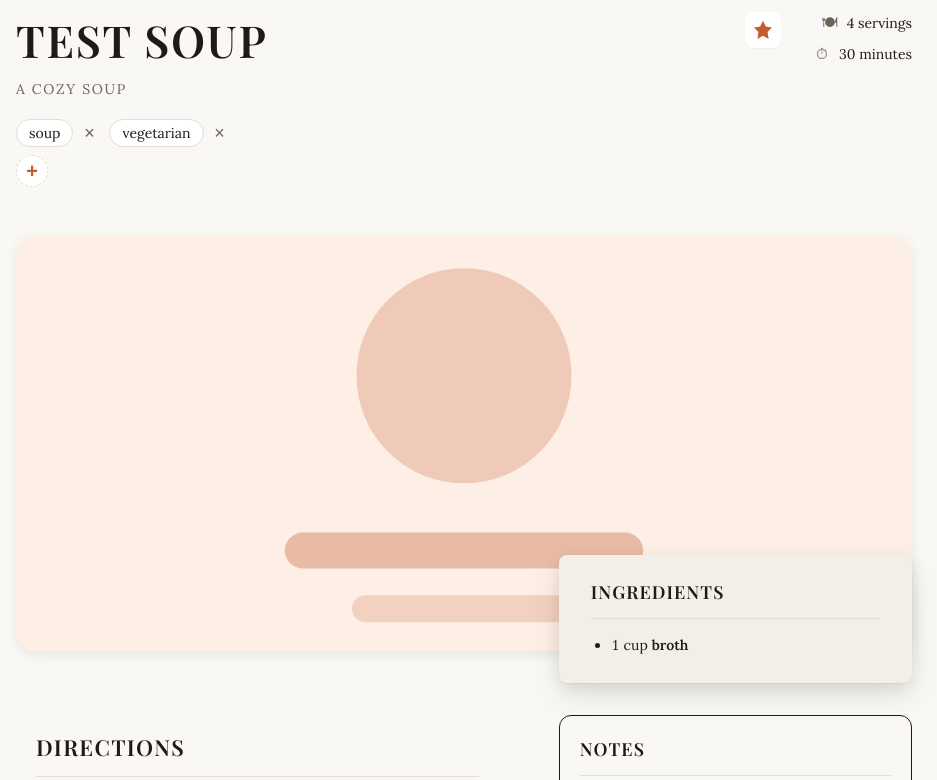
Test: RecipeDetailPage servings › adjusts servings when the stat in the recipe header is clicked
Click the button with aria-label "4 servings, click to adjust" at (866, 23), box [821,12,912,35]
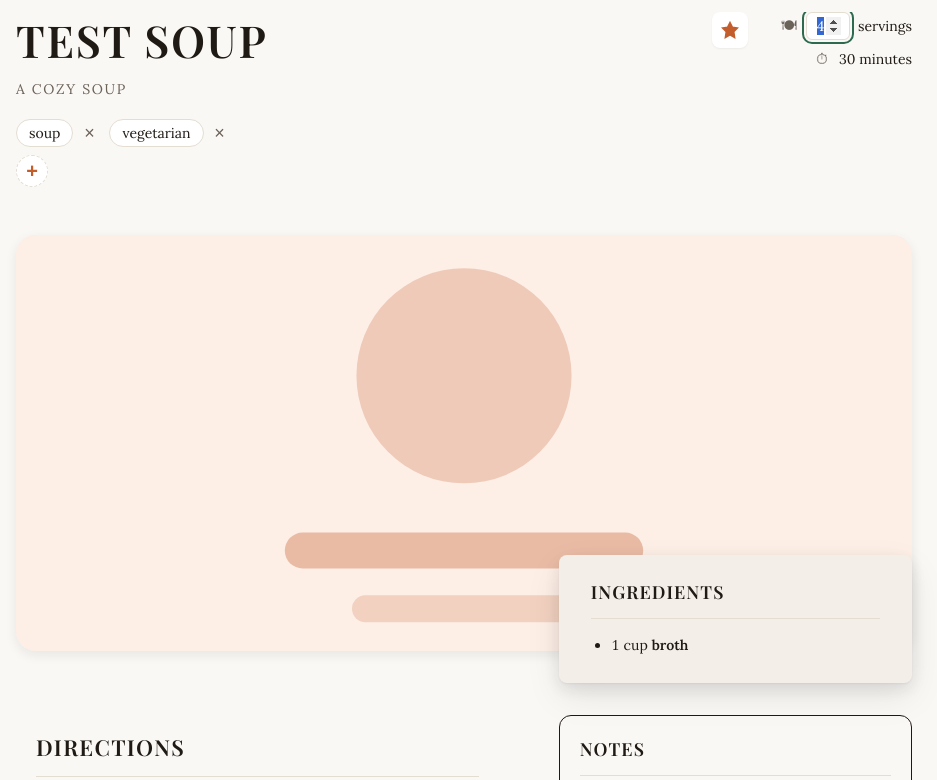
Replace the text in the number field named "Servings" with "6" at (828, 26), box [806,12,850,40]
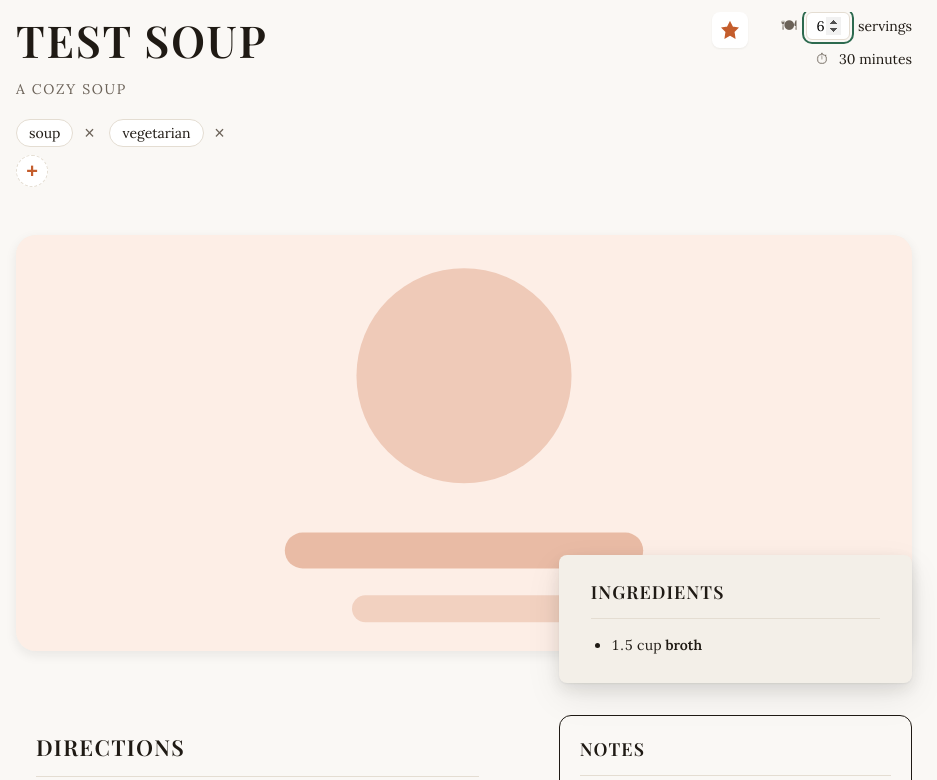
Leave the number field named "Servings", box [806,12,850,40]
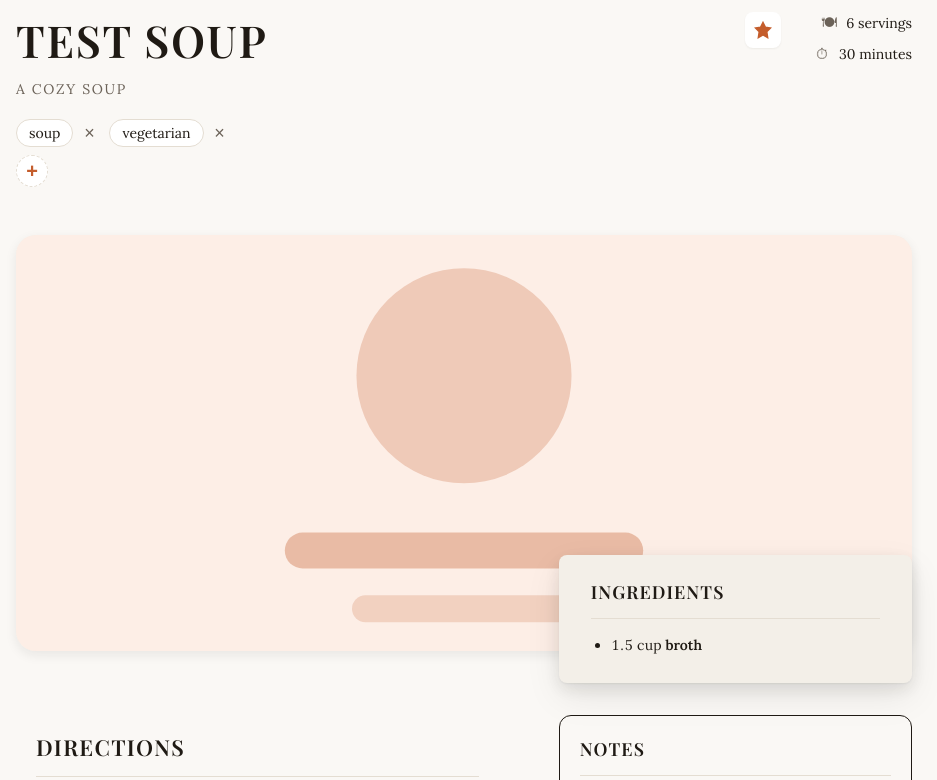
Result: the element "Ingredients 1.5 cup broth" is shown at [559,555,912,683]
Result: the button with aria-label "6 servings, click to adjust" is shown at [820,12,912,35]
